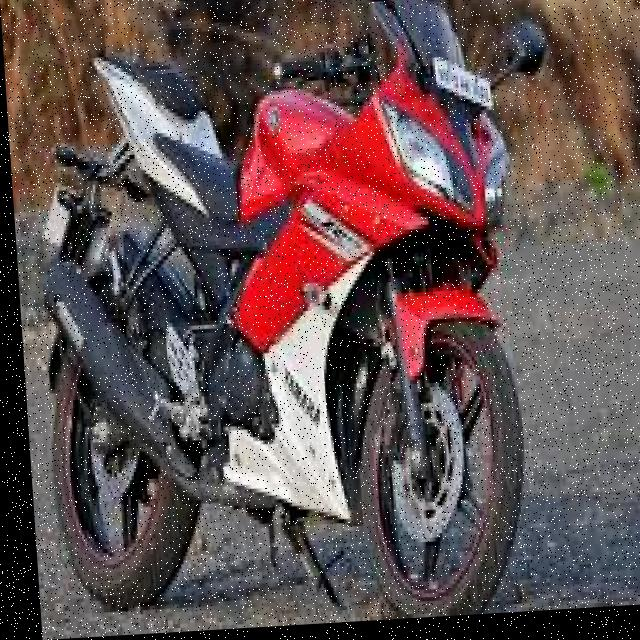bike: (1, 3, 569, 620)
